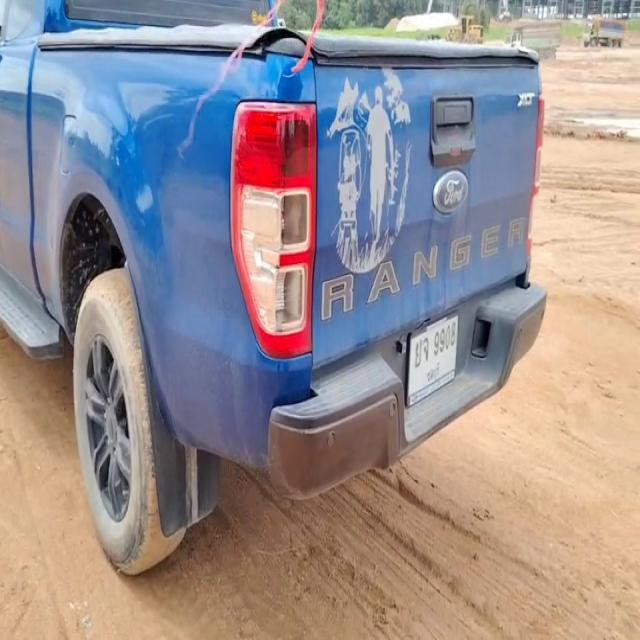Digit: (433, 321, 456, 358)
Licenseplate: (405, 311, 461, 409)
Provincename: (428, 361, 441, 384)
Thaichar: (415, 336, 430, 371)
